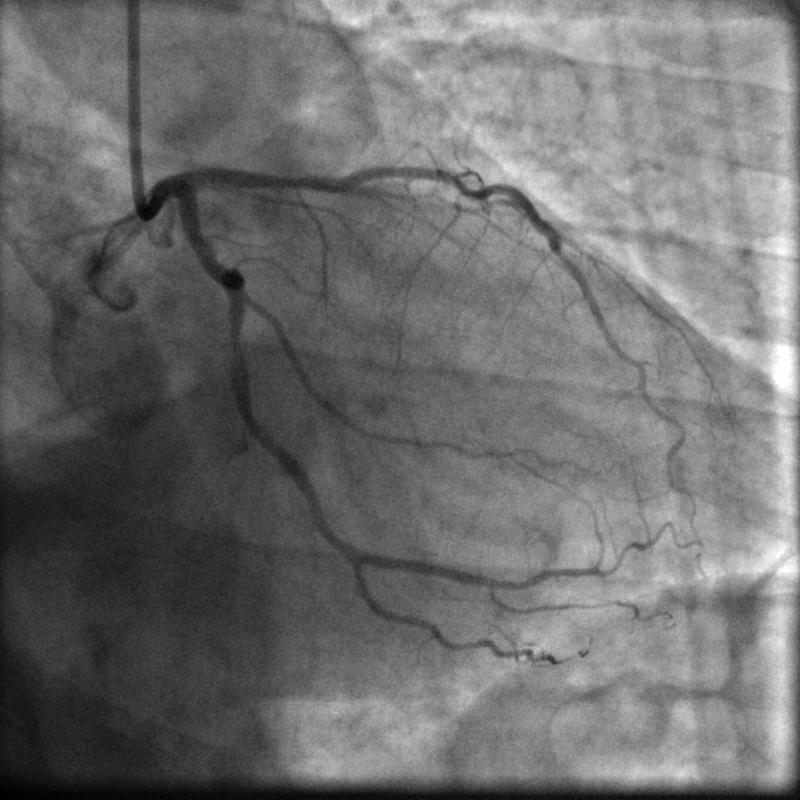Stenosis: (226, 327, 242, 357)
